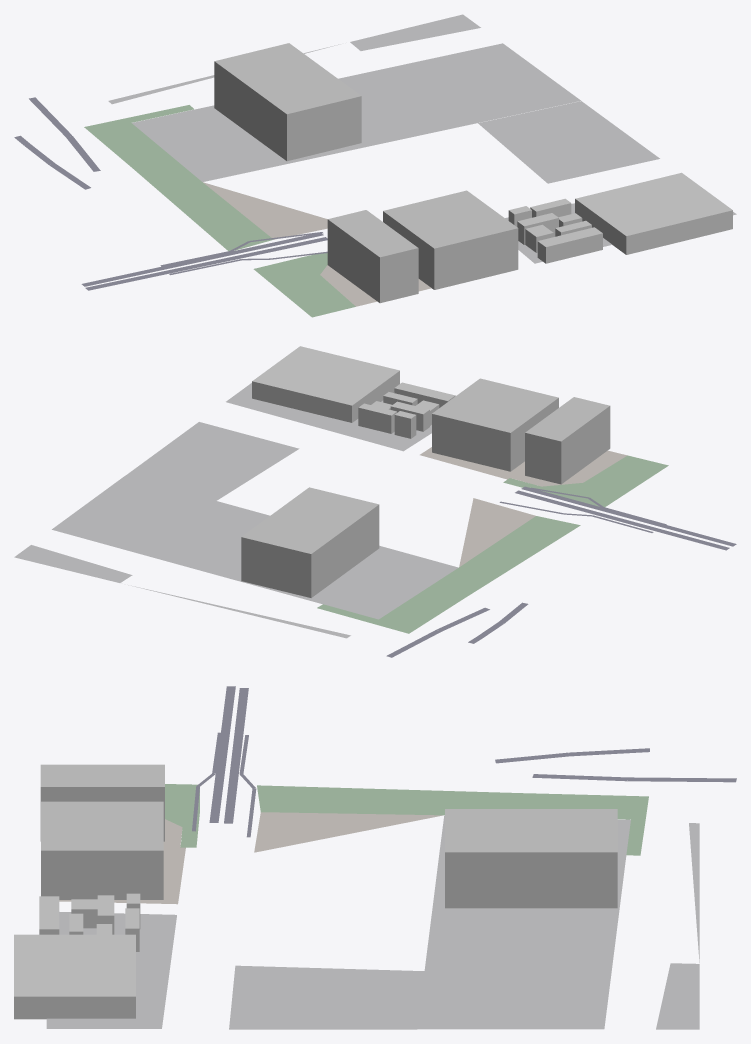
File: 138_107_mid.glb
3 views of the same model, one above another, from view 1: azimuth 30°, elevation 25°; view 2: azimuth 150°, elevation 25°; view 3: azimuth 270°, elevation 25° (orthographic). The views are drawn at different scales.
Bounding box in the file's own units: 604 × 47.65 × 554.
